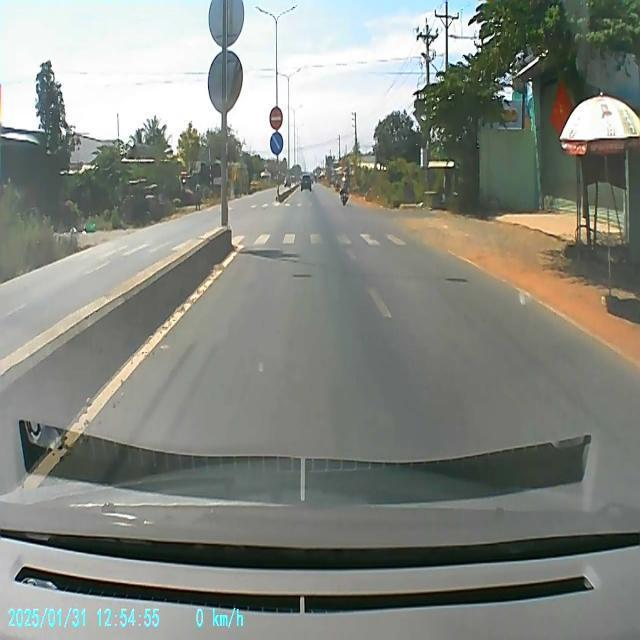102-cam-di-nguoc-chieu: (269, 106, 283, 128)
302a-huong-phai-di-vong-chuong-ngai-vat-1: (270, 130, 284, 154)
